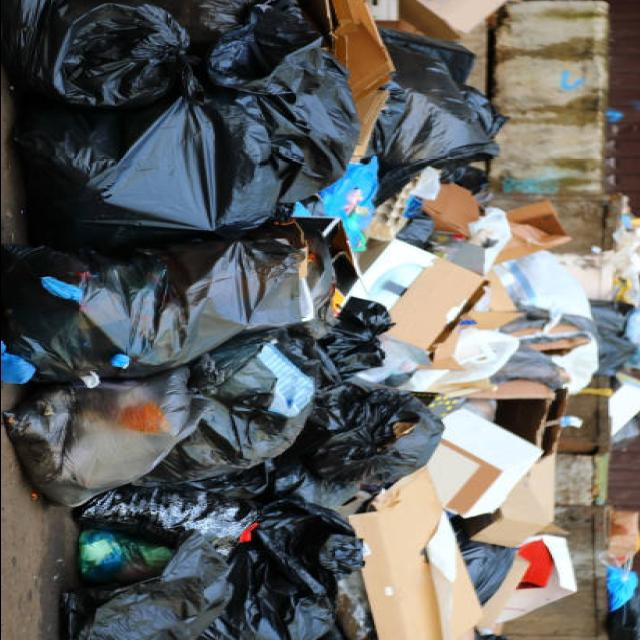garbage: (4, 0, 615, 640)
